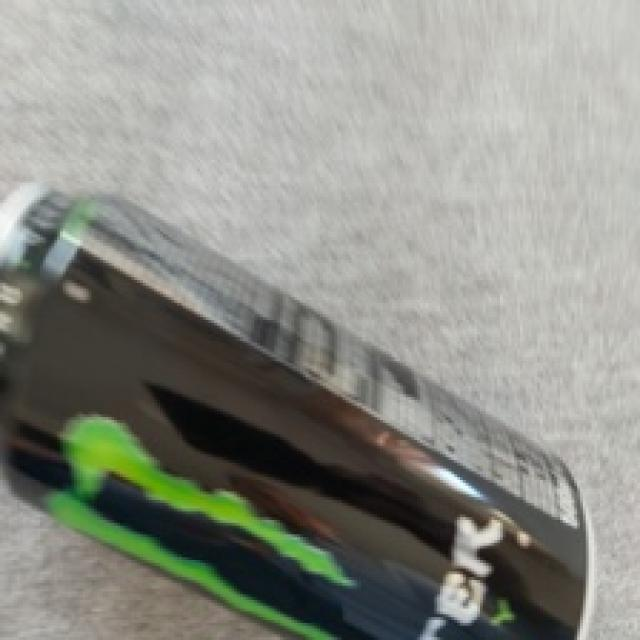recyclable: (0, 178, 596, 640)
